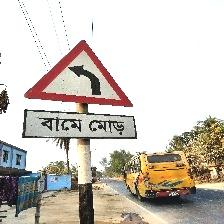Left-Turn: (22, 40, 135, 141)
